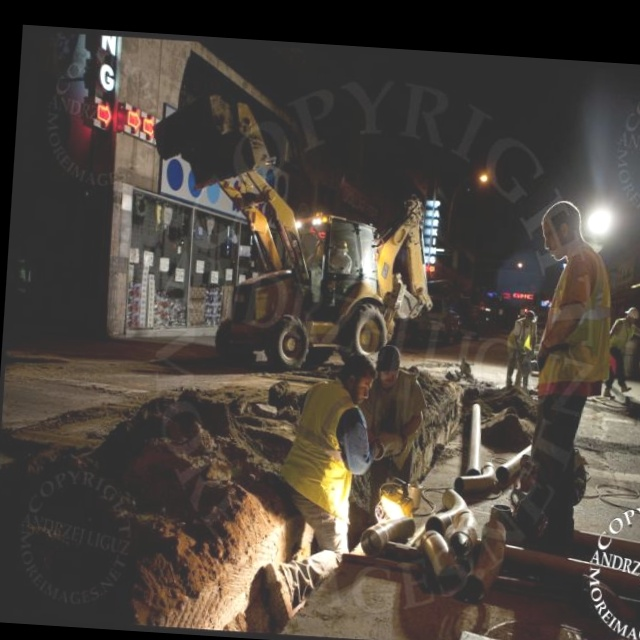Con_Chaleco: (538, 253, 621, 390), (283, 391, 364, 514)
